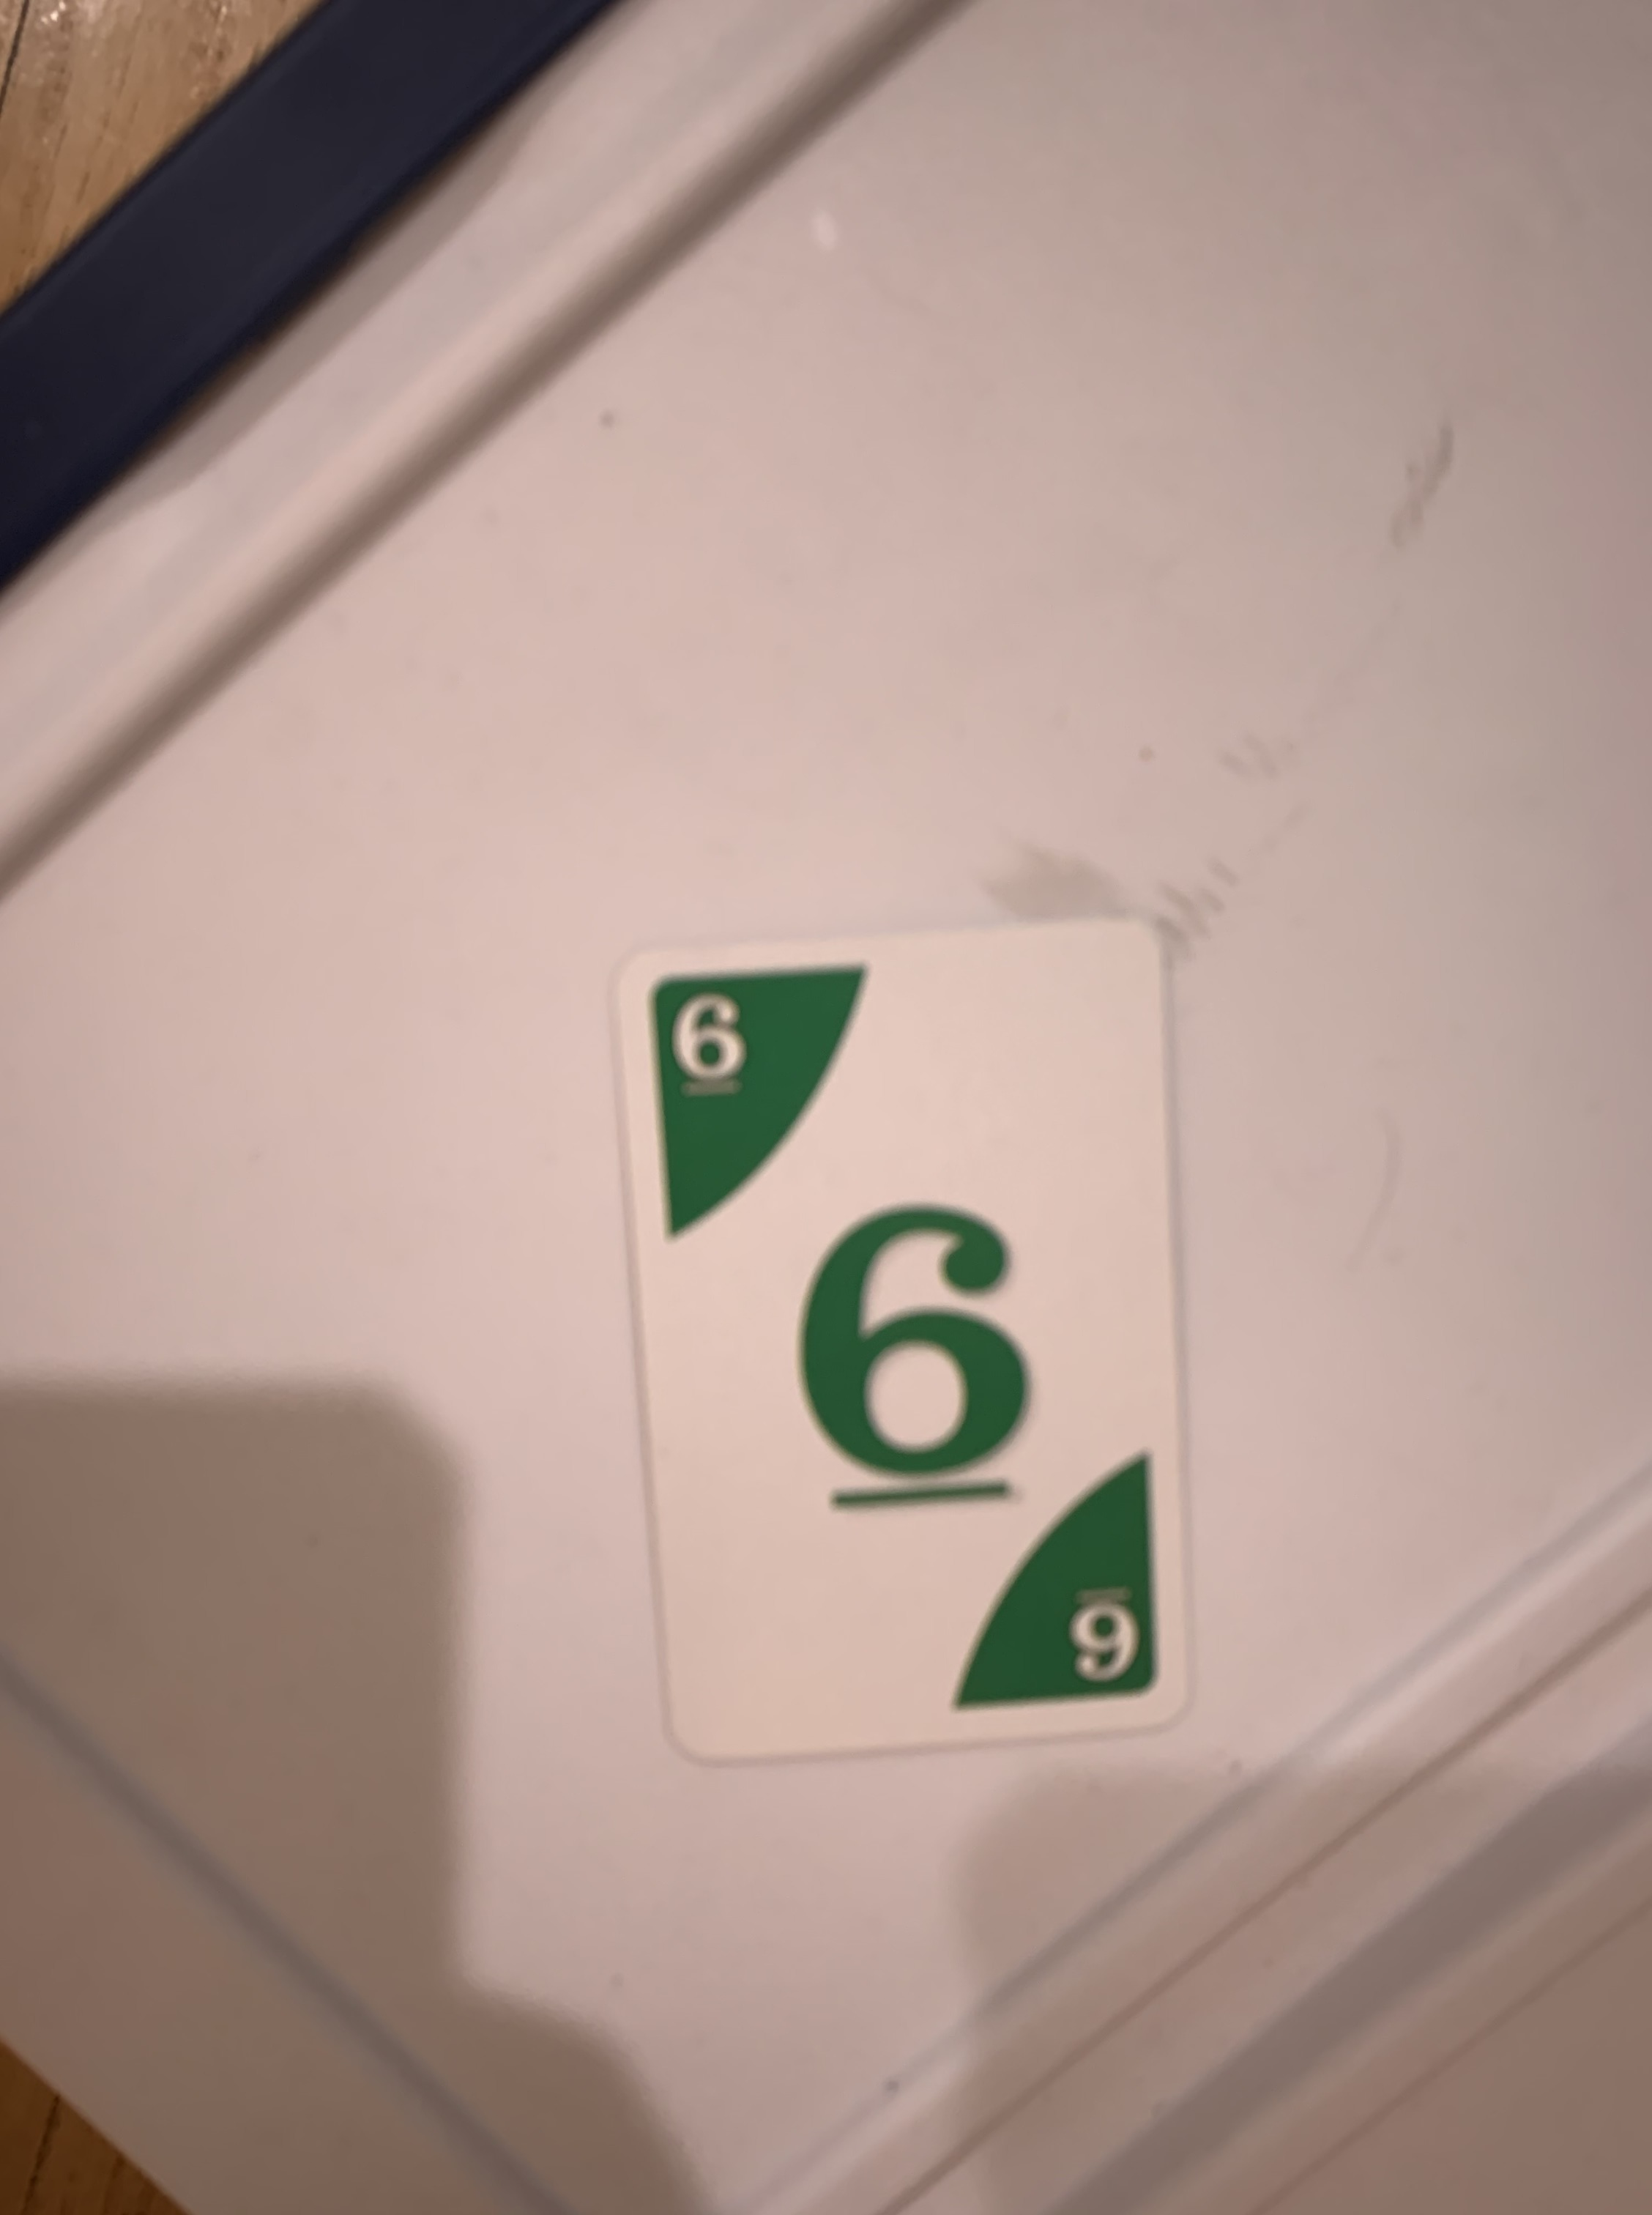six: (593, 903, 1222, 1772)
